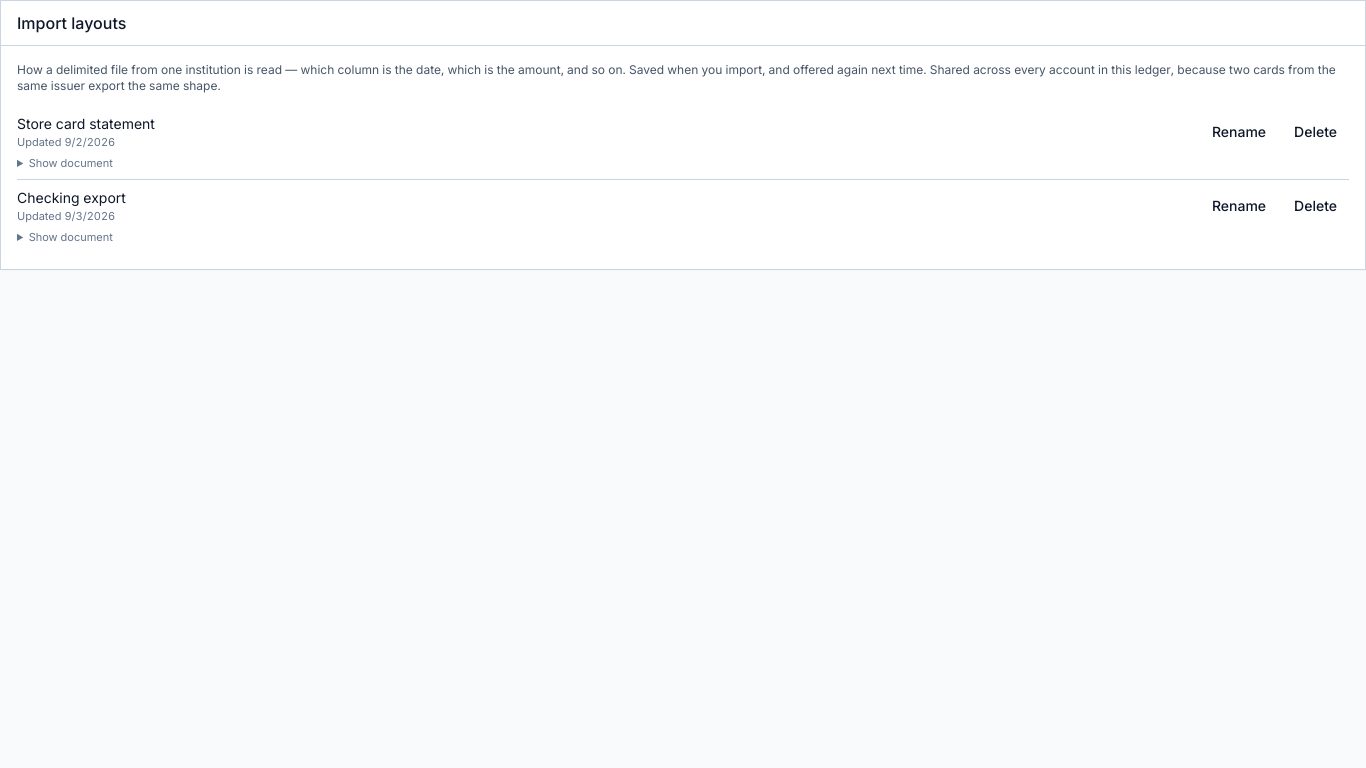
Scenario: ImportLayoutsPanel › refuses a name another layout already has, but allows its own
Check: the text "Store card statement" is shown, box [17,114,155,134]
Click the button "Rename" in the row of "Store card statement". click: (1239, 132)
box: [1200,114,1278,150]
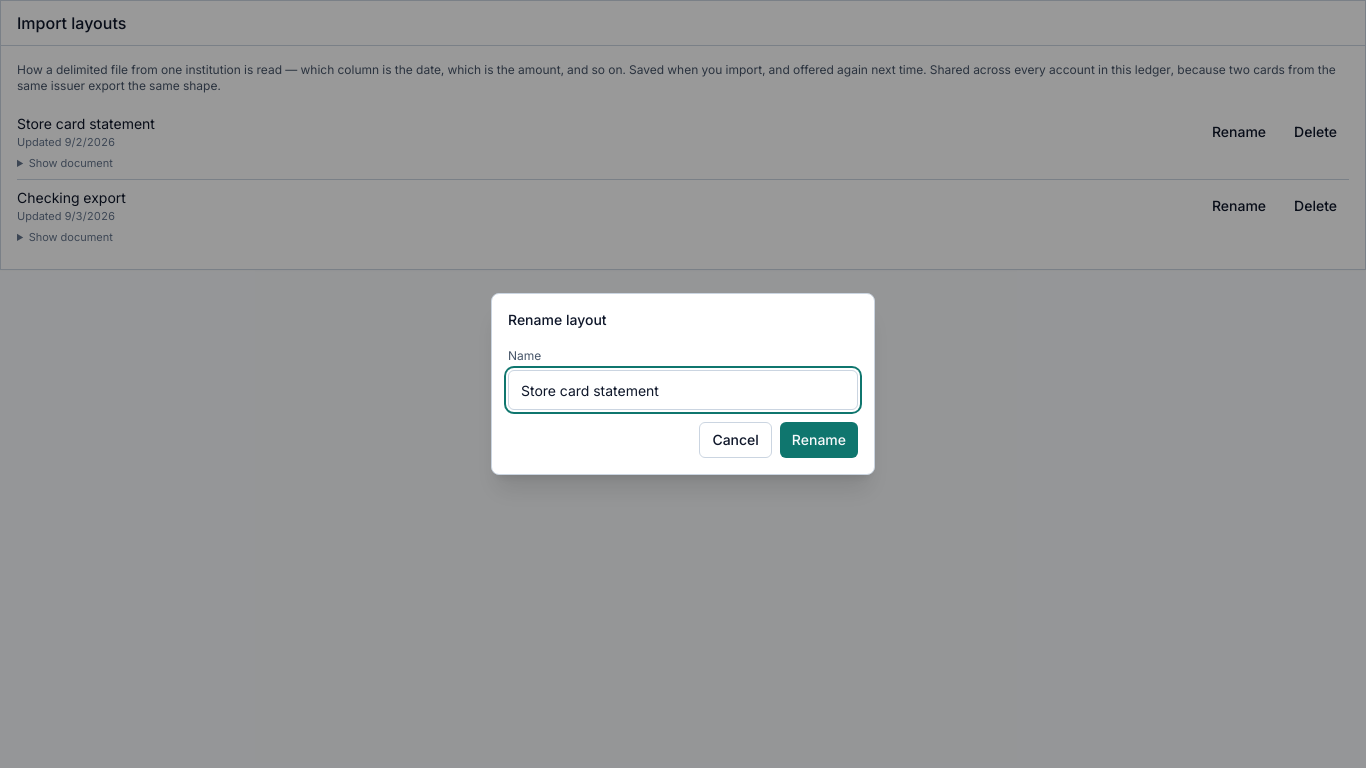
Replace the text in the field labelled "Name" with "Checking export". click: (683, 390)
box: [508,370,858,410]
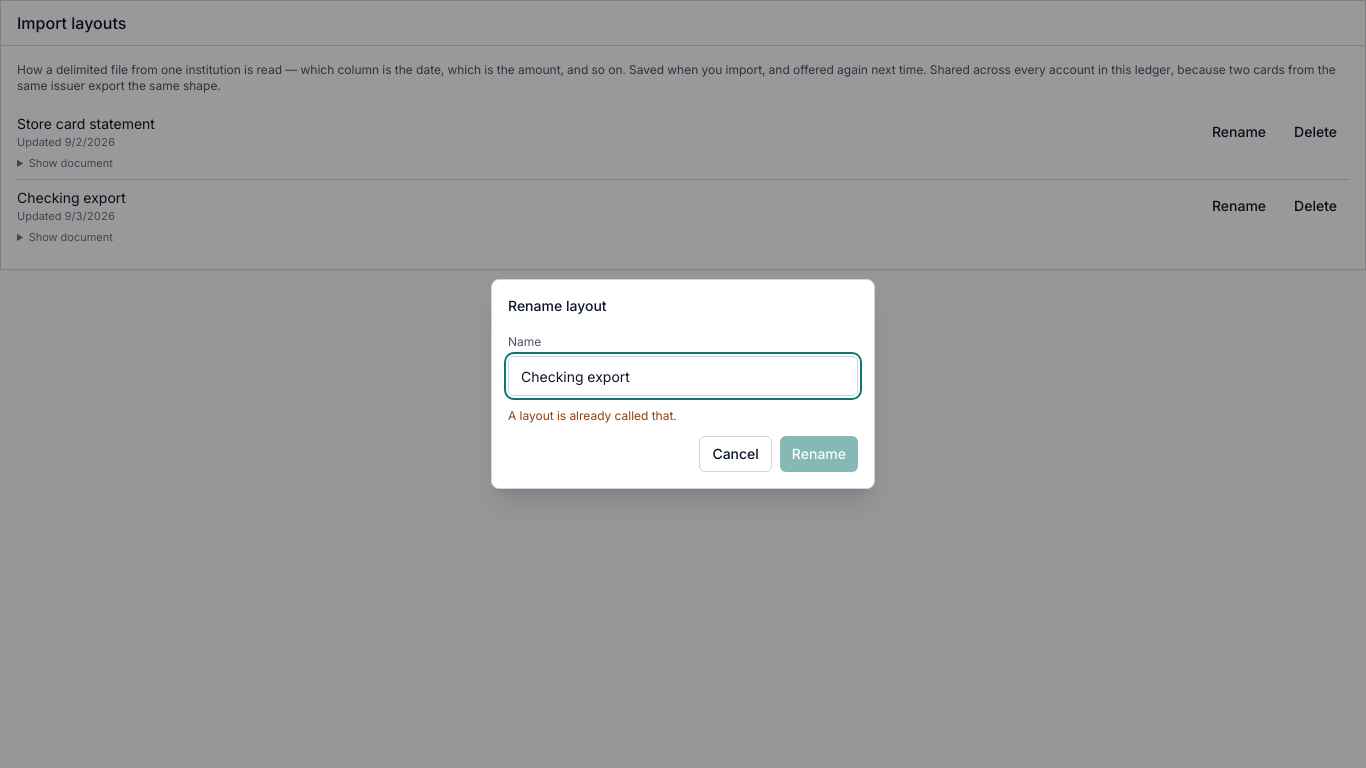
Check: the button "Rename" is disabled, box [780,436,858,472]
Check: the text "A layout is already called that." is shown, box [508,408,677,423]
Clear the field labelled "Name". click: (683, 376)
box: [508,356,858,396]
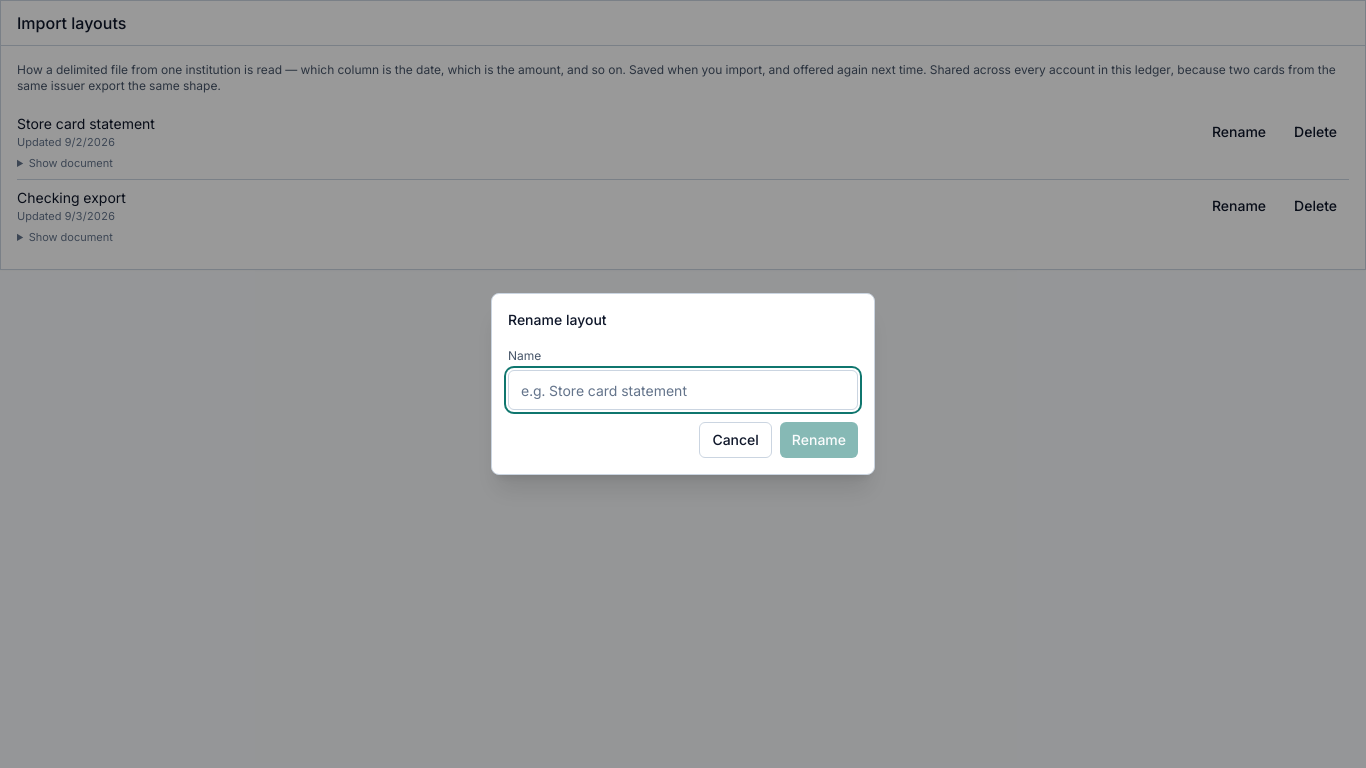
Type "Store card statement" into the field labelled "Name". click: (683, 390)
box: [508,370,858,410]
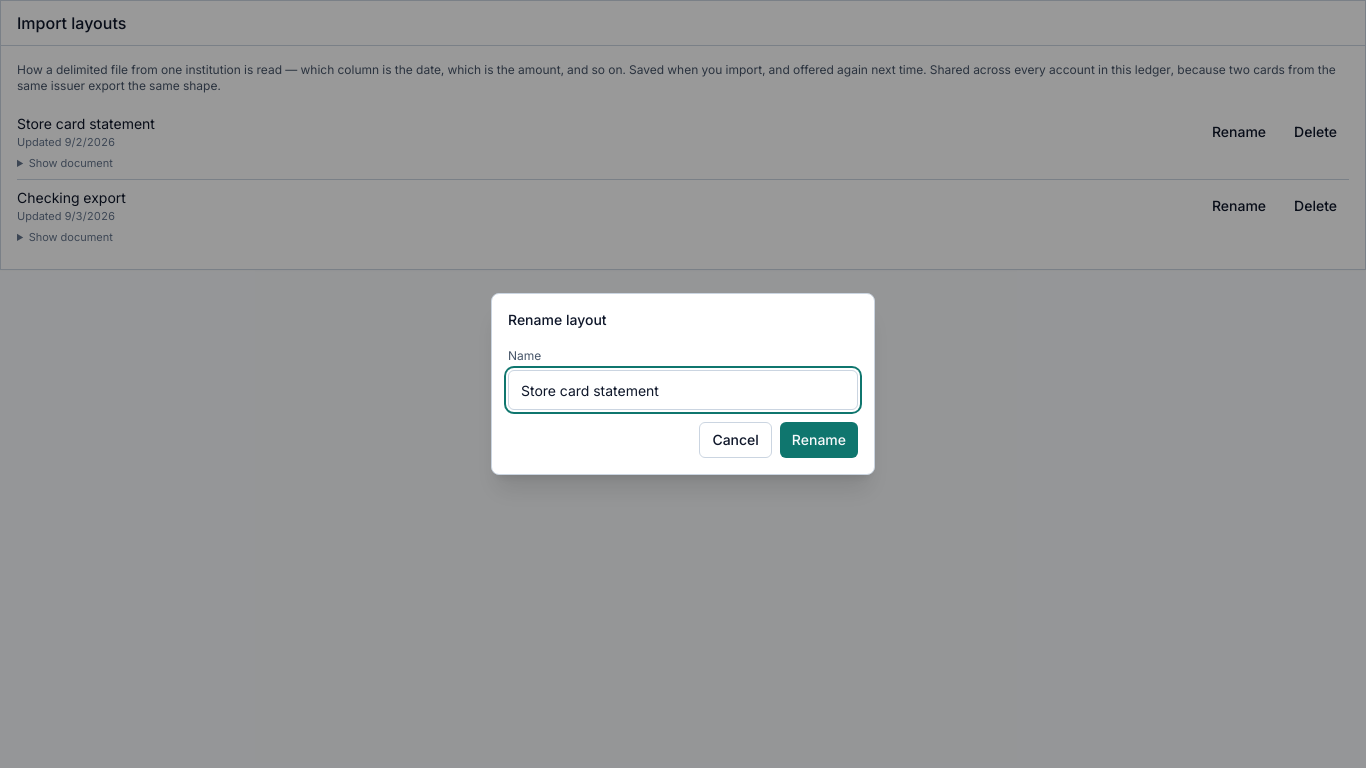
Check: the text "already called that" is not shown
Check: the button "Rename" is enabled, box [780,422,858,458]
